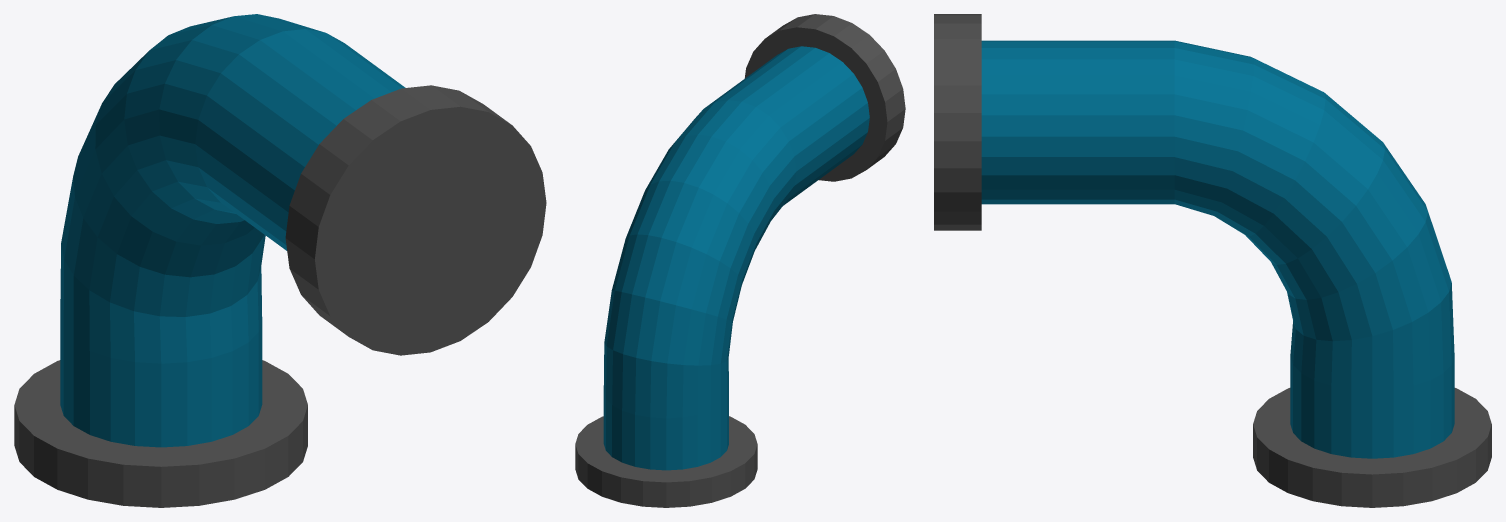
Rendered from ExportTube.fbx.
3 renders of one model, left to right at view 1: azimuth 30°, elevation 25°; view 2: azimuth 150°, elevation 25°; view 3: azimuth 270°, elevation 25°, orthographic. The views are drawn at different scales.
Parts seen in each view (by area): view 1: Circle; view 2: Circle; view 3: Circle.
Boxes of the visible parts, x1=… form: Circle: x1=14, y1=14, x2=546, y2=507; Circle: x1=575, y1=14, x2=905, y2=507; Circle: x1=934, y1=14, x2=1491, y2=507.
Bounding box in the file's own units: 39.84 × 79.85 × 93.05.
